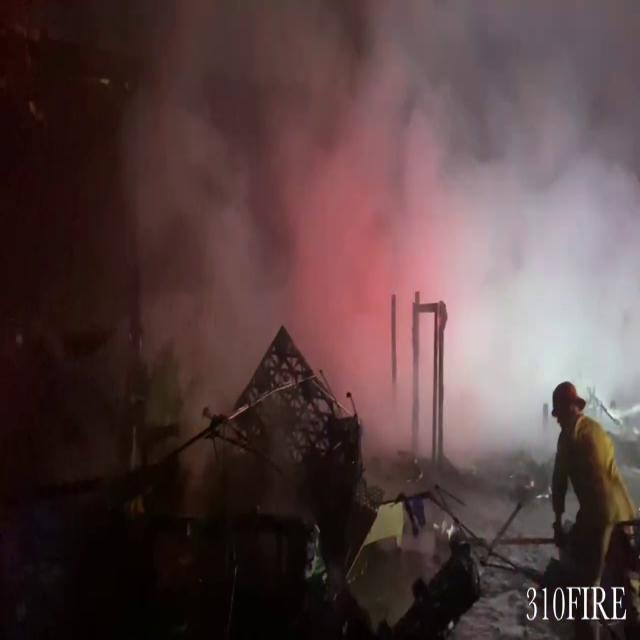Smoke: (93, 0, 640, 453)
